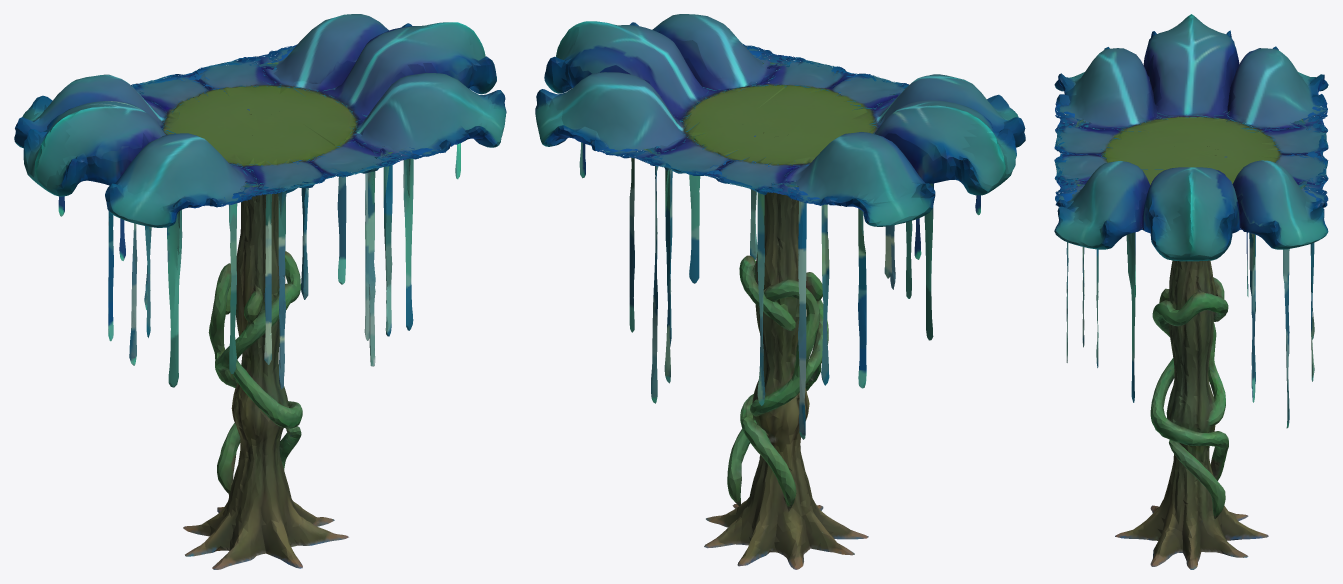
File: Pandora_CanopyPad2.glb
The picture shows the model from 3 angles, left to right: view 1: azimuth 30°, elevation 25°; view 2: azimuth 150°, elevation 25°; view 3: azimuth 270°, elevation 25°; orthographic projection. The views are drawn at different scales.
Parts seen in each view (by area): view 1: Pandora_CanopyPad2_Body; view 2: Pandora_CanopyPad2_Body; view 3: Pandora_CanopyPad2_Body.
Part boxes in pixels (bbox=[...]): Pandora_CanopyPad2_Body: bbox=[14, 14, 506, 569]; Pandora_CanopyPad2_Body: bbox=[535, 14, 1025, 569]; Pandora_CanopyPad2_Body: bbox=[1054, 14, 1328, 569].
Size of the model in its own units: 8.6 by 8.6 by 4.9.
Materials: 1 (1 with a texture image).
